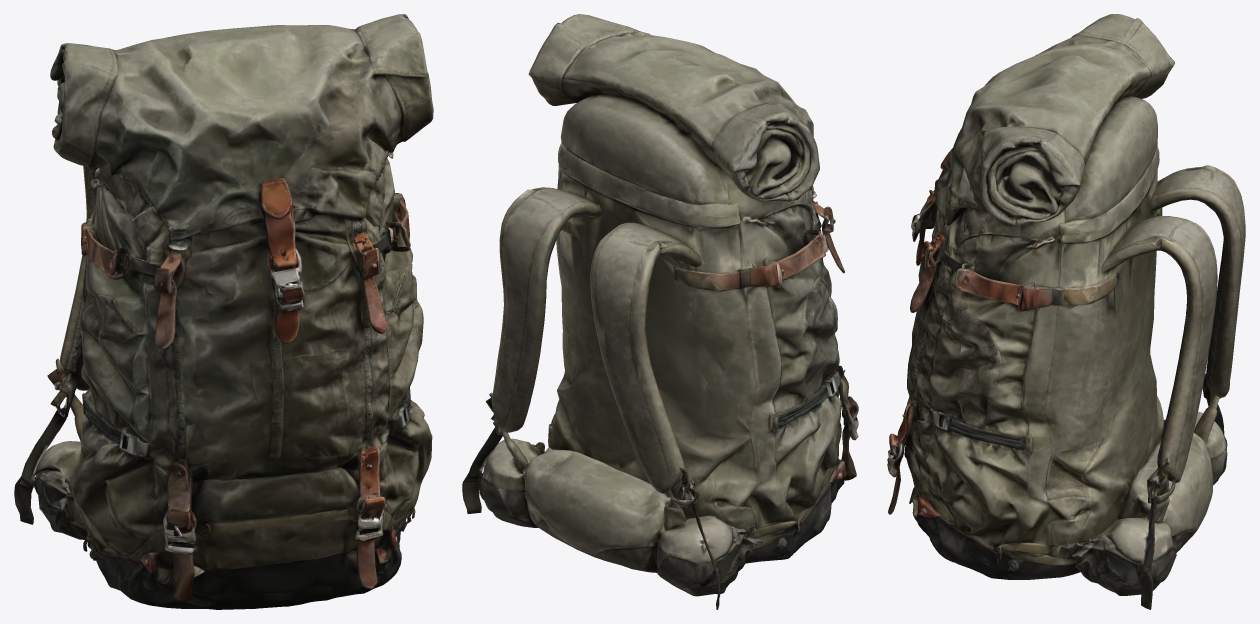
File: backpack.glb
The picture shows the model from 3 angles, left to right: view 1: azimuth 30°, elevation 25°; view 2: azimuth 150°, elevation 25°; view 3: azimuth 270°, elevation 25°; orthographic projection. The views are drawn at different scales.
Parts seen in each view (by area): view 1: node_f790933a-9d18-4dd0-8d32-289021dd15bd; view 2: node_f790933a-9d18-4dd0-8d32-289021dd15bd; view 3: node_f790933a-9d18-4dd0-8d32-289021dd15bd.
Part boxes in pixels (x1=…): node_f790933a-9d18-4dd0-8d32-289021dd15bd: x1=14, y1=14, x2=433, y2=609; node_f790933a-9d18-4dd0-8d32-289021dd15bd: x1=462, y1=14, x2=858, y2=609; node_f790933a-9d18-4dd0-8d32-289021dd15bd: x1=887, y1=14, x2=1245, y2=609.
Size of the model in its own units: 0.7092 by 0.9794 by 0.6932.
Materials: 1 (1 with a texture image).
